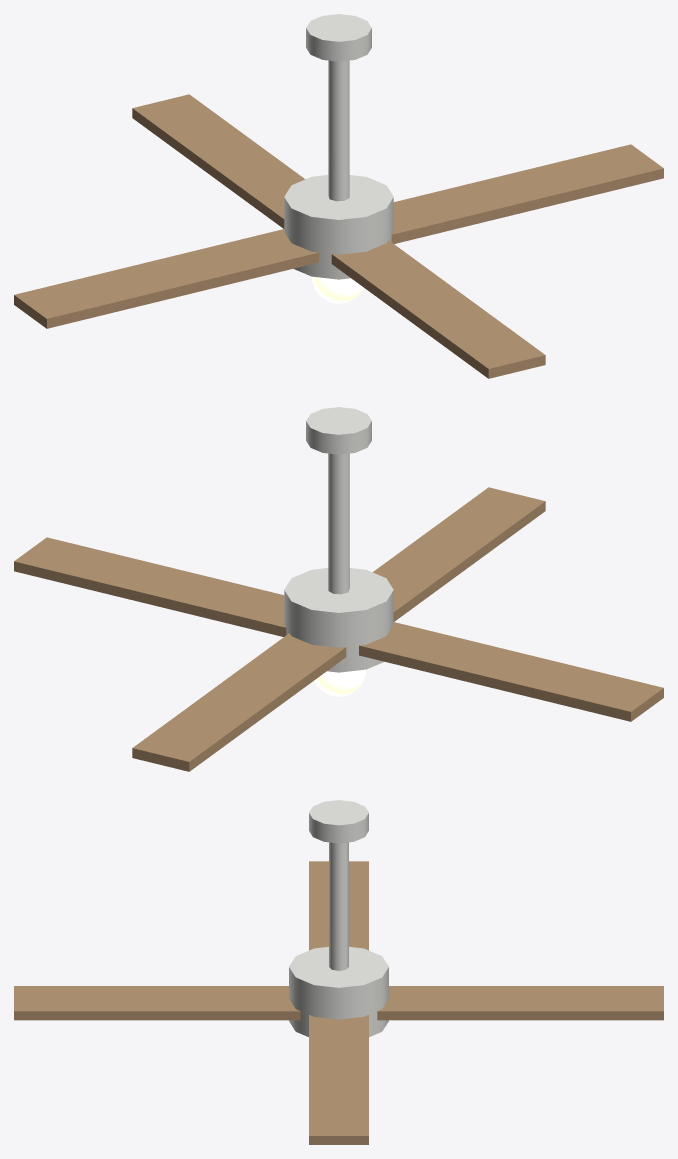
The model's file is ceiling_fan.glb.
The picture shows the model from 3 angles, top to bottom: view 1: azimuth 30°, elevation 25°; view 2: azimuth 150°, elevation 25°; view 3: azimuth 270°, elevation 25°; orthographic projection. The views are drawn at different scales.
Parts seen in each view (by area): view 1: blade (×4), motor, rod, mount, bulb; view 2: blade (×4), motor, rod, mount, bulb; view 3: blade (×4), motor, rod, mount.
Boxes of the visible parts, x1,y1,x2,y2 form: blade (×4): (14,94,663,378); motor: (284,175,393,279); rod: (328,60,349,201); mount: (306,14,371,61); bulb: (311,276,363,303); blade (×4): (14,487,663,771); motor: (284,568,393,672); rod: (328,453,349,594); mount: (306,407,371,454); bulb: (314,669,366,696); blade (×4): (14,861,663,1144); motor: (289,947,388,1036); rod: (329,842,348,970); mount: (309,800,368,843).
Bounding box in the file's own units: 1.3 × 0.55 × 1.3.
